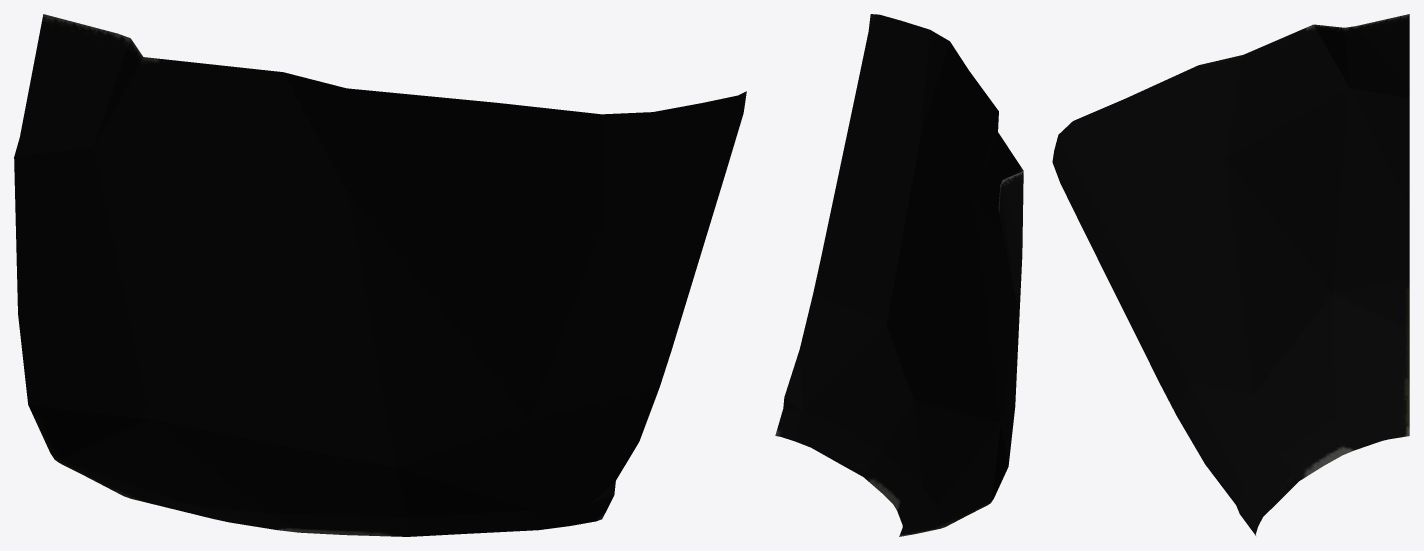
3 views of the same model, side by side, from view 1: azimuth 30°, elevation 25°; view 2: azimuth 150°, elevation 25°; view 3: azimuth 270°, elevation 25° (orthographic). The views are drawn at different scales.
Bounding box in the file's own units: 3.14 × 3.35 × 2.92.
3 materials, 3 textured.
